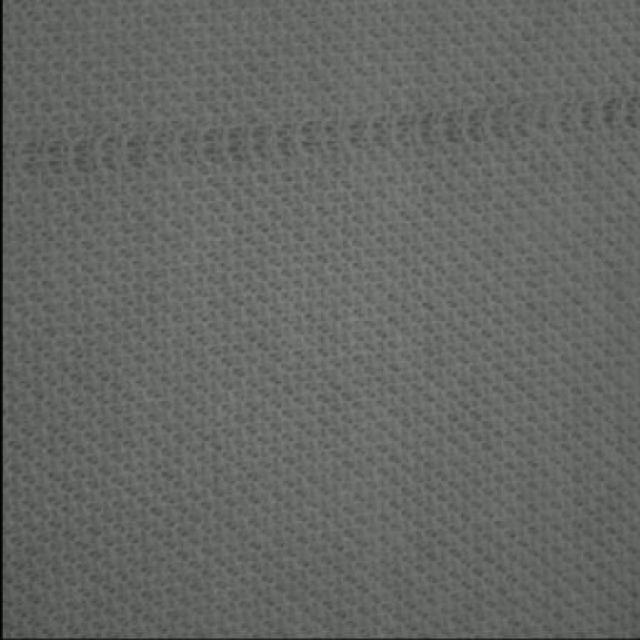Line: (4, 93, 640, 181)
